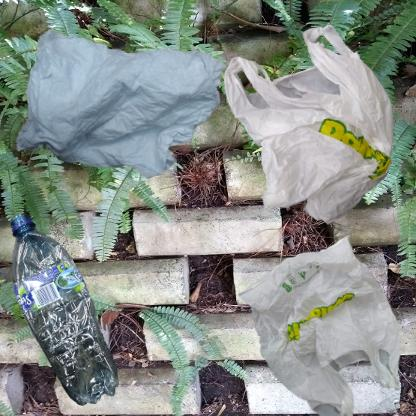bolsa: (213, 10, 416, 265), (213, 213, 416, 416)
botella: (10, 213, 119, 406)
papel: (10, 10, 249, 210)
